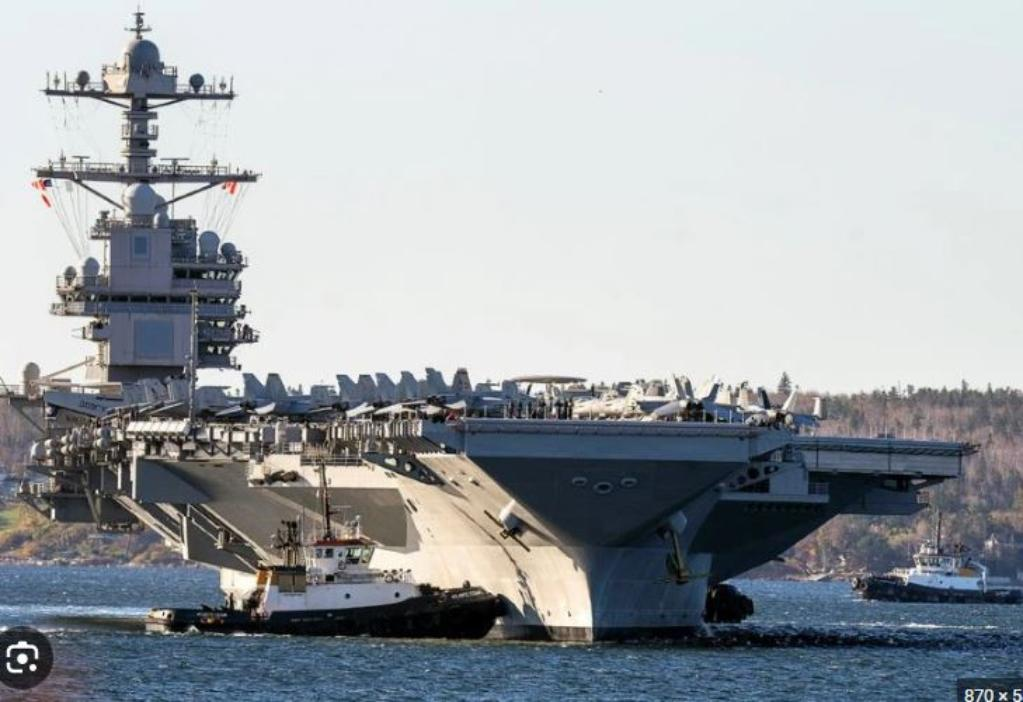Warship: (0, 10, 988, 658)
